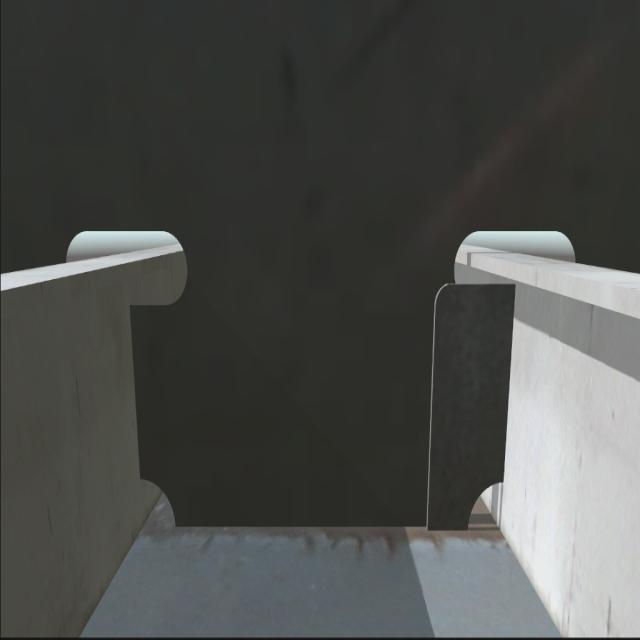fillet_hole: (140, 473, 181, 535), (466, 478, 504, 532)
fillet_yong_jeop_jang: (171, 519, 457, 543)
longi_yong_jeop_jang: (126, 302, 146, 479), (502, 283, 515, 487)
plate_CP05: (422, 280, 509, 537)
